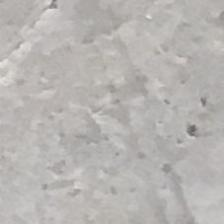Non_Crack: (8, 7, 218, 197)
